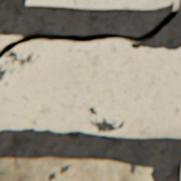brick: (0, 156, 153, 180), (27, 0, 178, 8)
broken_brick: (0, 38, 180, 136), (0, 34, 23, 50)
crack: (0, 0, 180, 58)
